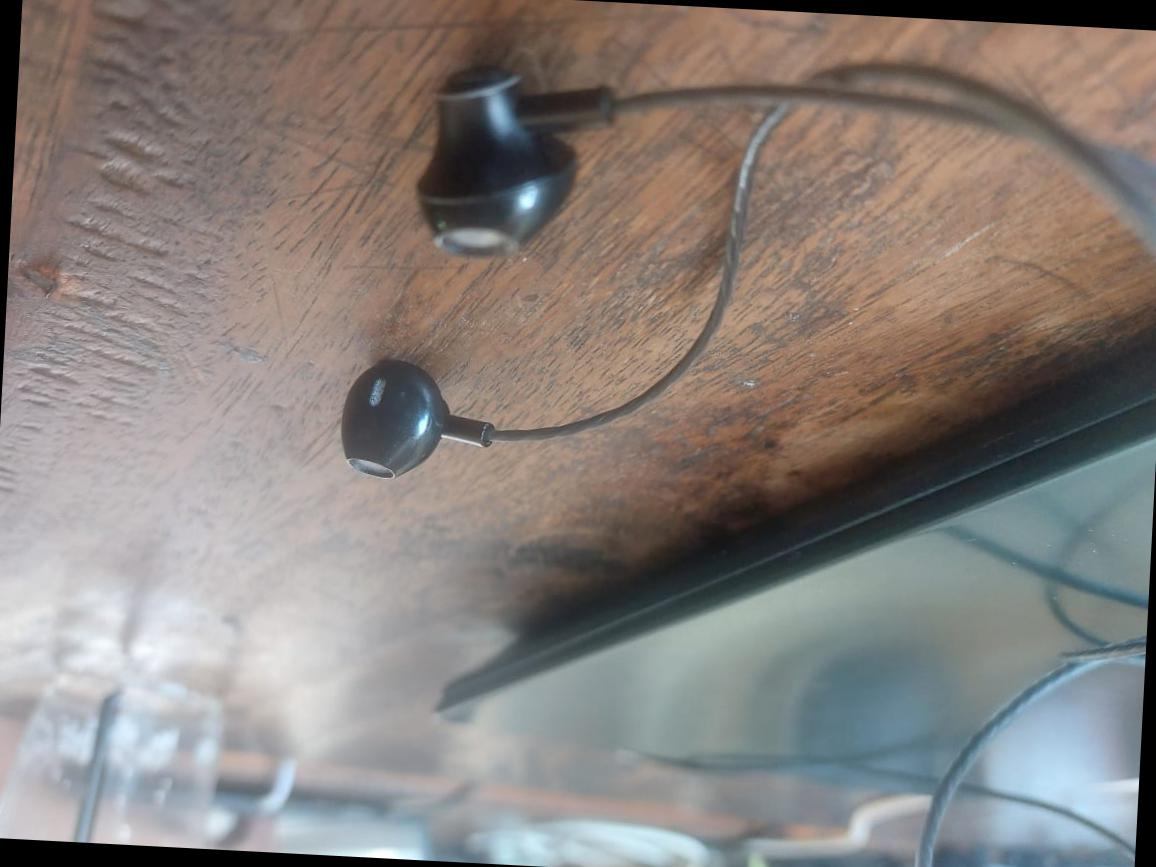Earphone: (382, 47, 625, 268), (336, 335, 508, 490)
